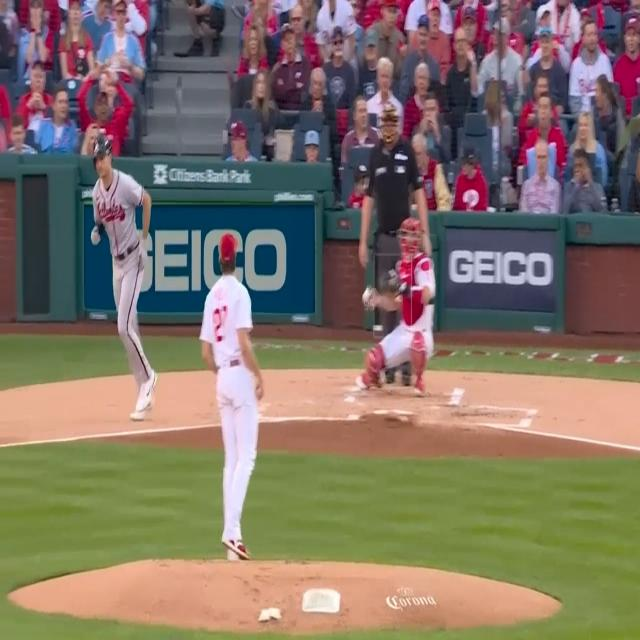baseball: (363, 286, 372, 302)
